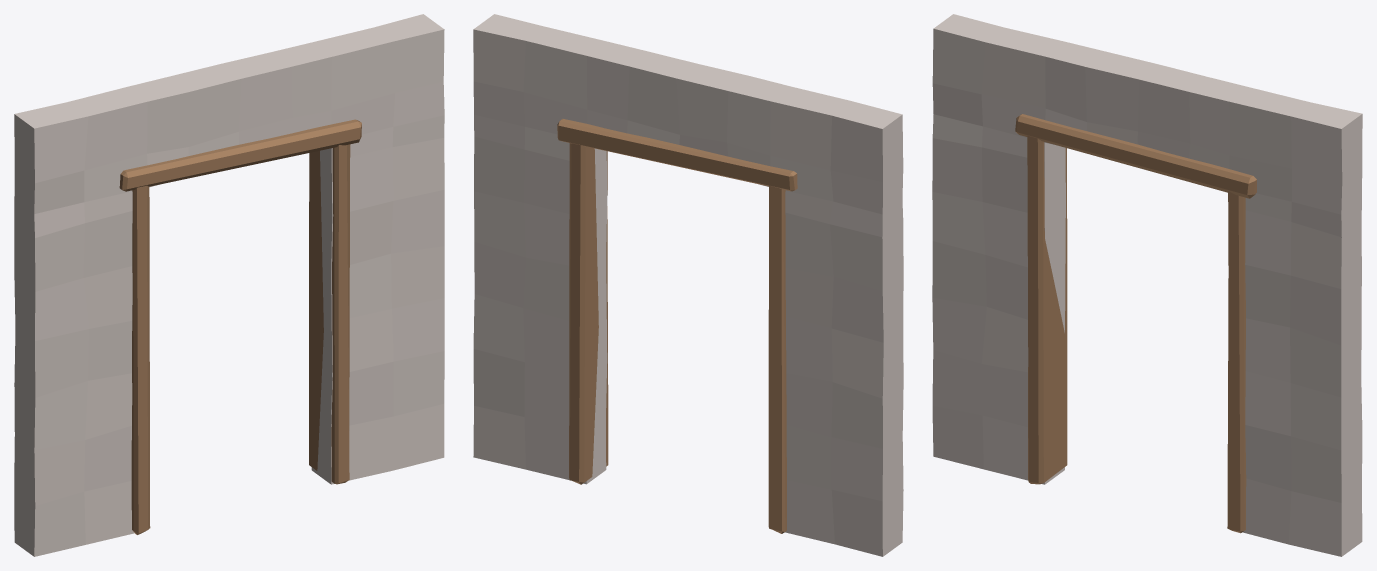
The model's file is PKX_Wall_Int_Door.fbx.
3 views of the same model, side by side, from view 1: azimuth 30°, elevation 25°; view 2: azimuth 150°, elevation 25°; view 3: azimuth 330°, elevation 25° (orthographic).
Visible parts, largest first — view 1: PKX_Wall_Int_Door; view 2: PKX_Wall_Int_Door; view 3: PKX_Wall_Int_Door.
Part boxes in pixels (left/top/right/bottom): PKX_Wall_Int_Door: left=14, top=14, right=444, bottom=556; PKX_Wall_Int_Door: left=473, top=14, right=903, bottom=556; PKX_Wall_Int_Door: left=932, top=14, right=1362, bottom=556.
Size of the model in its own units: 200 by 200 by 25.67.
